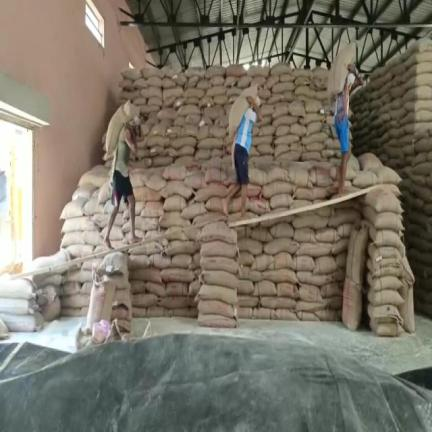Zone-Counting: (105, 101, 140, 248), (328, 44, 362, 193), (223, 84, 261, 214)
